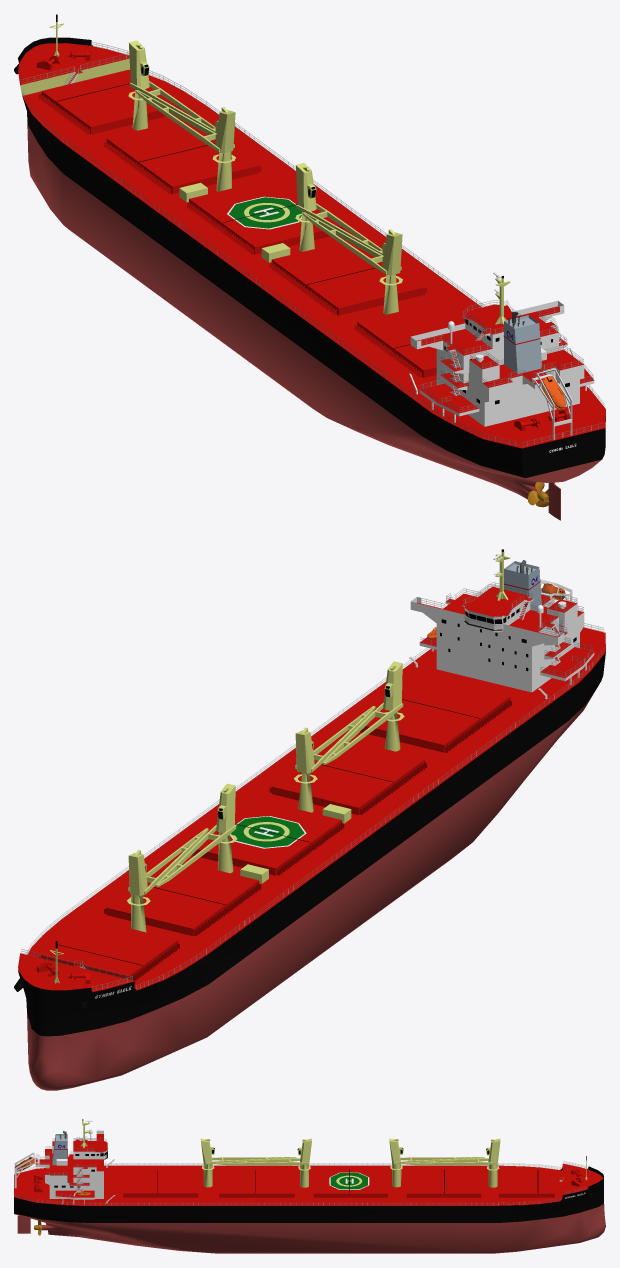
File: cargo.glb
3 renders of one model, top to bottom at view 1: azimuth 30°, elevation 25°; view 2: azimuth 150°, elevation 25°; view 3: azimuth 270°, elevation 25°, orthographic. The views are drawn at different scales.
Visible parts, largest first — view 1: cargo; view 2: cargo; view 3: cargo.
Boxes of the visible parts, x1,y1,x2,y2 form: cargo: (14, 14, 605, 520); cargo: (14, 549, 605, 1090); cargo: (14, 1119, 605, 1253).
Size of the model in its own units: 22.73 by 30.08 by 140.
Materials: 43 (6 with a texture image).
